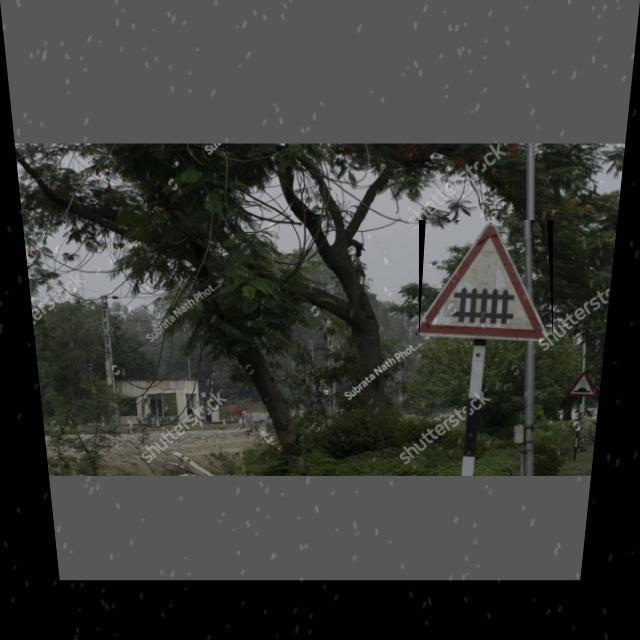Guarded_Level_Crossing: (419, 220, 553, 341)
